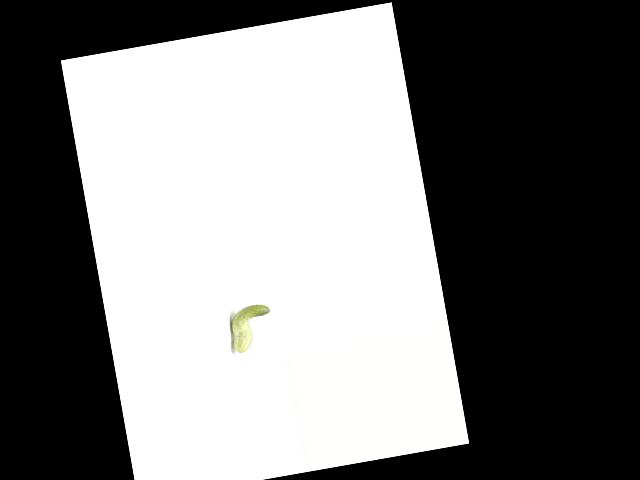cucumber: (226, 301, 276, 353)
